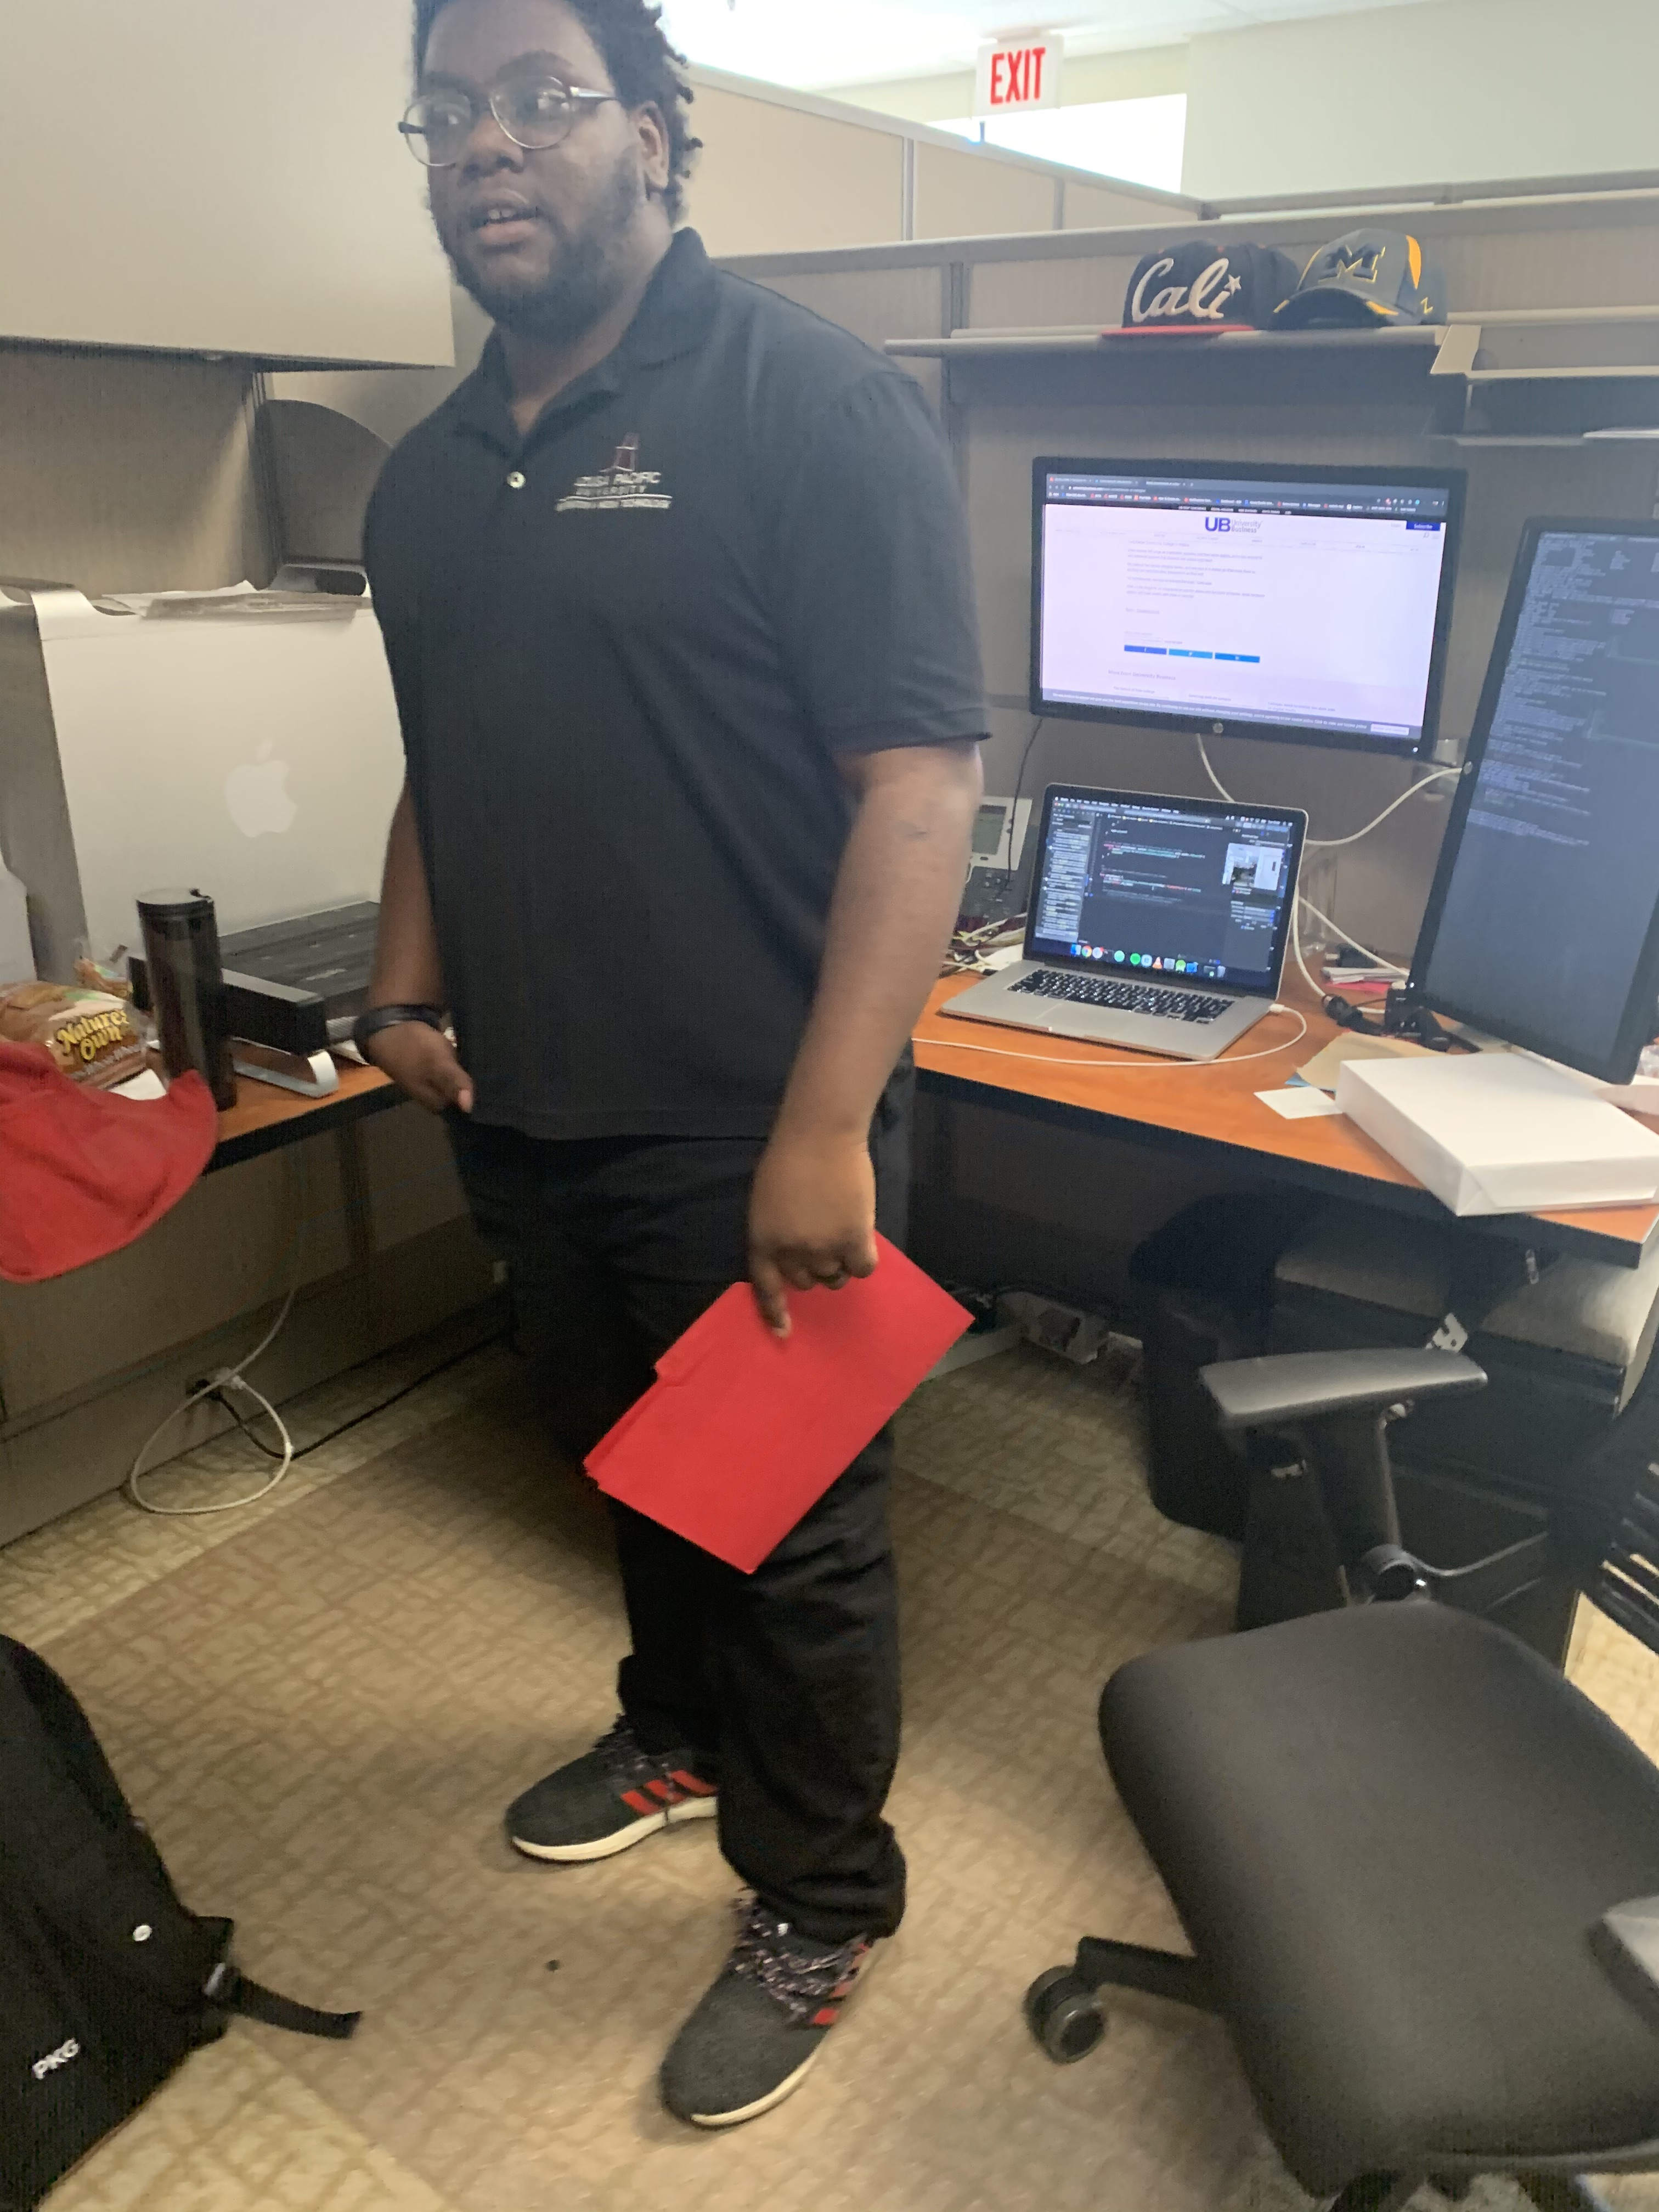red folder: (568, 1209, 981, 1592)
